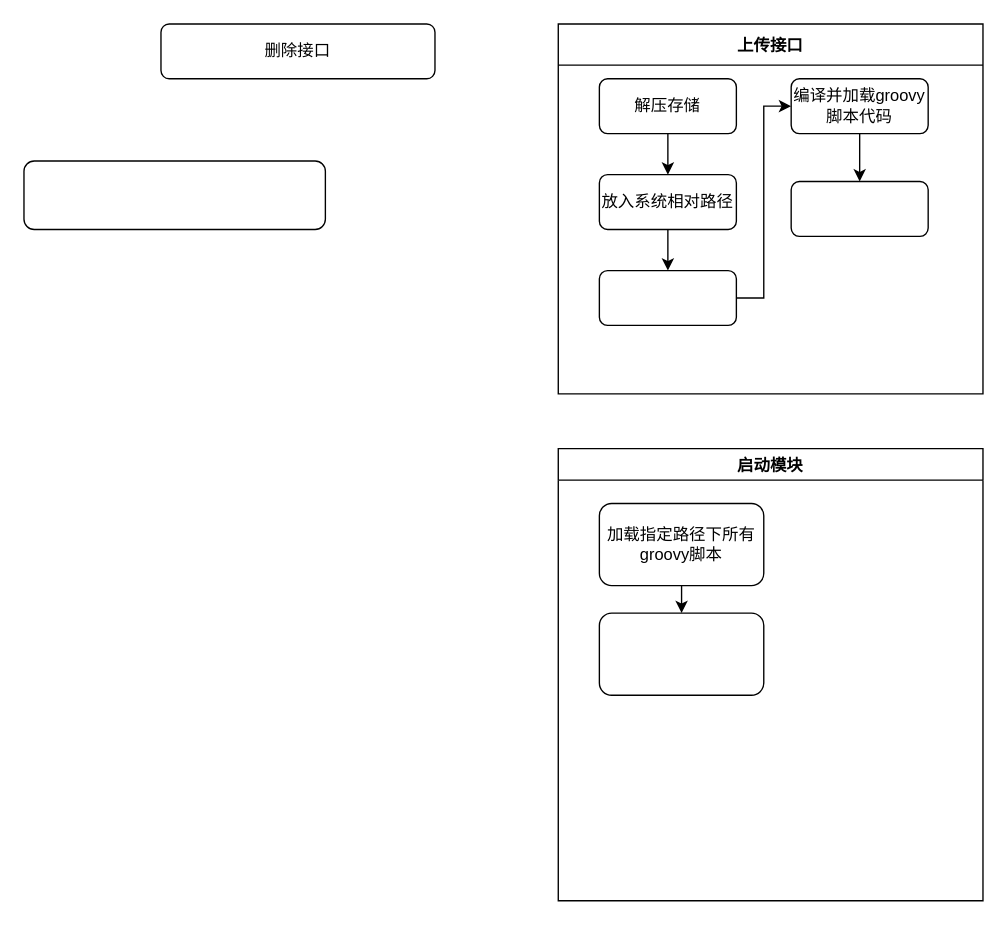
This 1007x925 diagram has some shape labels left out. The shapes that lost their labels are listed below. From the top down, each one's centre as x and y in pixels, then its label:
the point at 174,194: 前端管理模块
the point at 859,208: 调用内部路径定义函数，注册全局路径
the point at 667,297: 卸载旧代码
